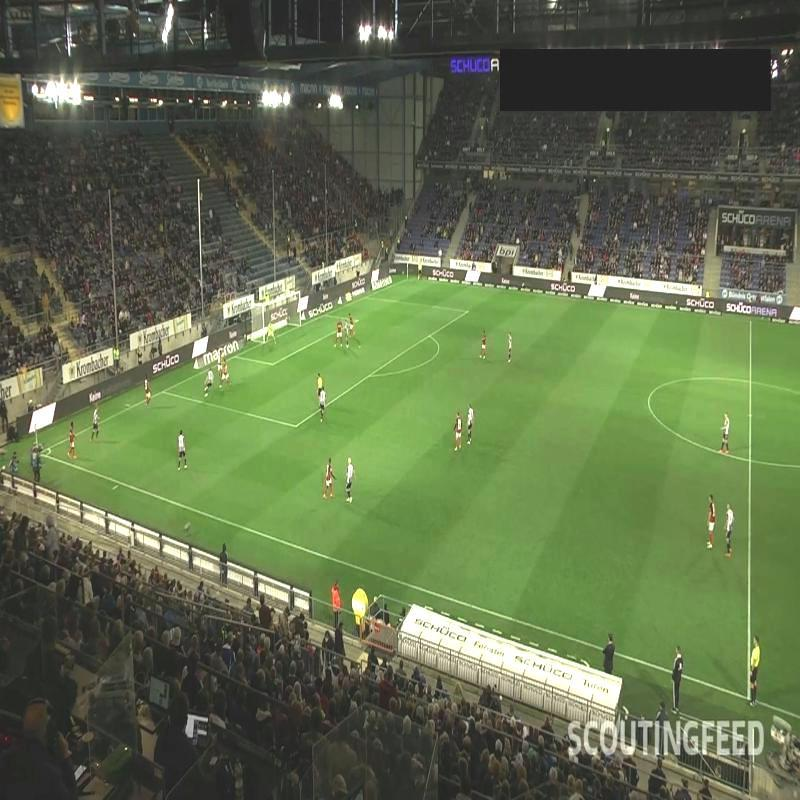1: (400, 272, 414, 286)
10: (423, 330, 437, 344)
11: (363, 367, 377, 381)
12: (290, 419, 303, 434)
13: (743, 313, 757, 327)
14: (743, 374, 757, 388)
15: (744, 454, 758, 468)
16: (736, 686, 764, 710)
2: (360, 290, 374, 304)
3: (318, 308, 332, 322)
4: (229, 348, 243, 362)
5: (156, 384, 170, 398)
7: (350, 314, 364, 328)
8: (266, 358, 280, 372)
9: (461, 305, 475, 318)
c: (642, 394, 656, 408)
